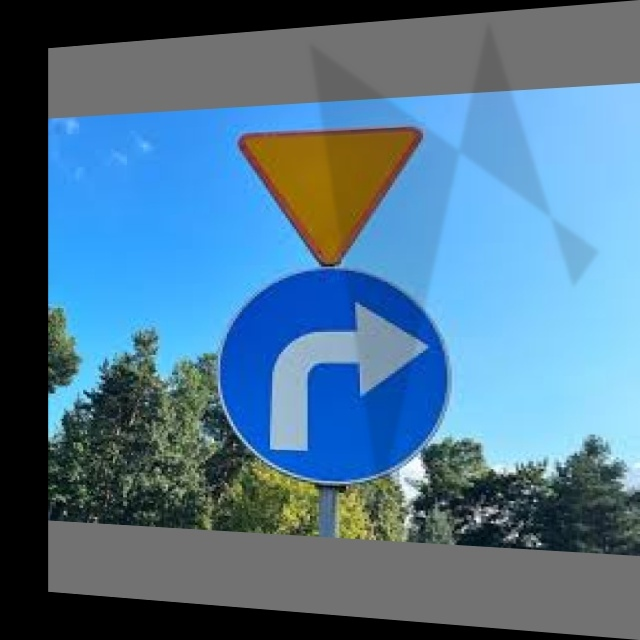Compulsory_Turn_Right_Ahead: (219, 268, 451, 484)
